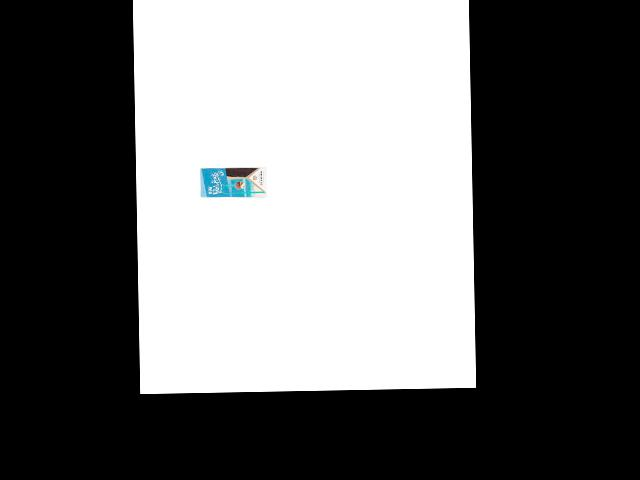chocolate: (199, 165, 268, 199)
